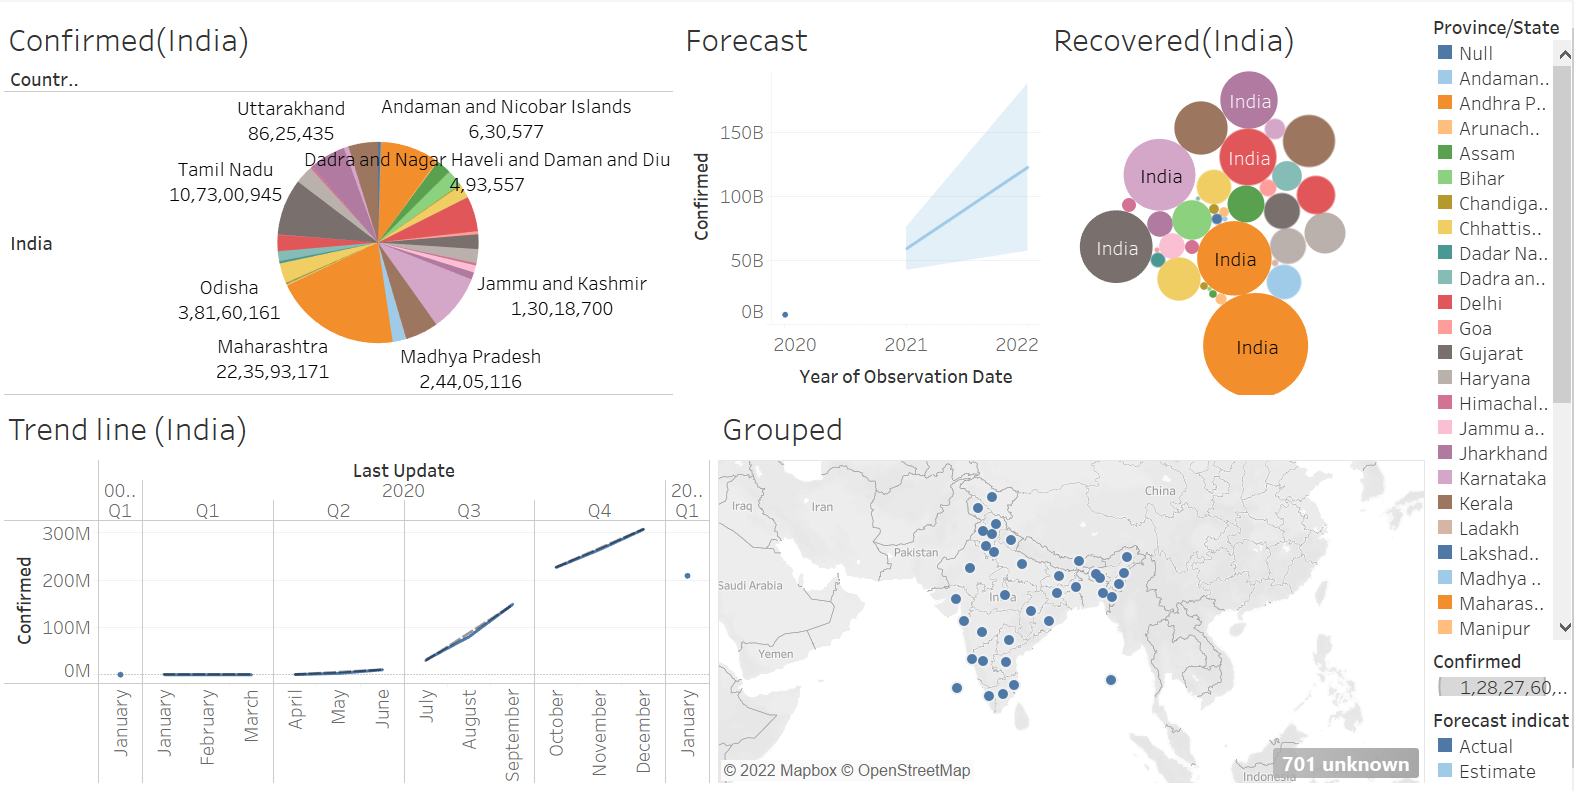

The dashboard page shown, as its layout file describes it:
{"tool":"tableau","page":{"name":"India Dashboard","canvas":[1000,1000],"units":"permille","ordinal":1},"visuals":[{"type":"worksheet","title":"Confirmed(India) (2)","mark":"Pie","rows":["Country/Region"],"box":[6.2,10.5,411.5,489.5]},{"type":"worksheet","title":"Forecast","mark":"Automatic","rows":["Confirmed"],"cols":["ObservationDate"],"box":[417.7,10.5,223.8,489.5]},{"type":"worksheet","title":"Recovered(India) (2)","mark":"Circle","box":[641.5,10.5,233.1,489.5]},{"type":"legend","title":"Confirmed(India) (2)","param":"[federated.1fo1ci91lovsxx1102va91fnmlaa].[none:Province/State:nk]","box":[874.6,10.5,119.2,790.8]},{"type":"worksheet","title":"Trend line (India)","mark":"Line","rows":["Confirmed"],"cols":["Last Update","Last Update","Last Update"],"box":[6.2,500,434.2,489.5]},{"type":"worksheet","title":"Grouped ","mark":"Automatic","box":[440.4,500,434.2,489.5]},{"type":"legend","title":"Confirmed(India) (2)","param":"[federated.1fo1ci91lovsxx1102va91fnmlaa].[sum:Confirmed:qk]","box":[874.6,801.3,119.2,77.6]},{"type":"legend","title":"Forecast","param":"[federated.1fo1ci91lovsxx1102va91fnmlaa].[none:Forecast Indicator:nk]","box":[874.6,878.9,119.2,110.5]}]}

Visuals, with their boxes on the dashboard's canvas, which has no fixed pixel size, in thousandths of its width and height (x1, y1, x2, y2). These are canvas units, not pixel positions in the 1574x791 screenshot, which may show the page scaled, cropped or inside an application window:
"Confirmed(India) (2)" worksheet (Pie marks): 6/10/418/500
"Forecast" worksheet: 418/10/642/500
"Recovered(India) (2)" worksheet (Circle marks): 642/10/875/500
"Confirmed(India) (2)" legend: 875/10/994/801
"Trend line (India)" worksheet (Line marks): 6/500/440/990
"Grouped " worksheet: 440/500/875/990
"Confirmed(India) (2)" legend: 875/801/994/879
"Forecast" legend: 875/879/994/989
